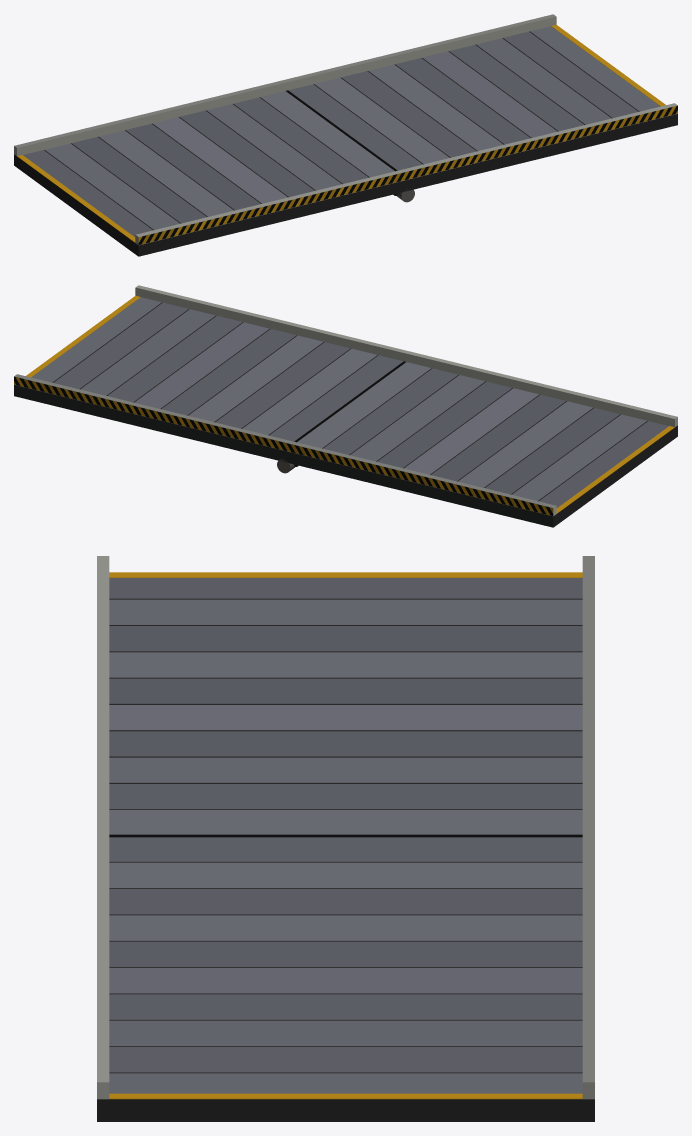
File: balance_floor.glb
3 views of the same model, one above another, from view 1: azimuth 30°, elevation 25°; view 2: azimuth 150°, elevation 25°; view 3: azimuth 270°, elevation 25° (orthographic). The views are drawn at different scales.
Visible parts, largest first — view 1: Deck; view 2: Deck; view 3: Deck.
Boxes of the visible parts, bbox=[...] form: Deck: bbox=[14, 14, 677, 256]; Deck: bbox=[14, 285, 677, 527]; Deck: bbox=[97, 556, 594, 1121].
Size of the model in its own units: 20 by 1.1 by 8.01.
